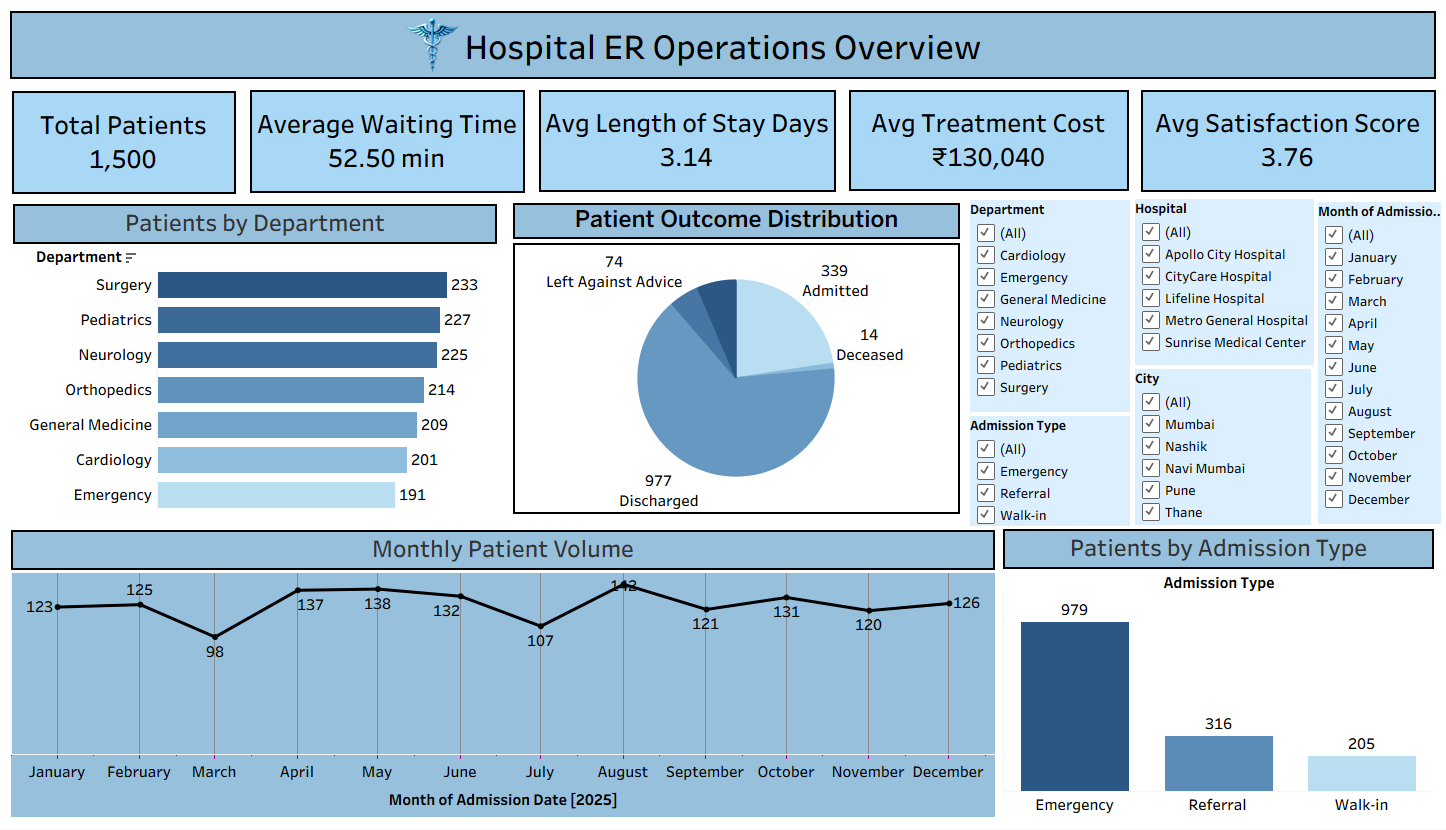

This screenshot's page, from the dashboard's own definition file:
{"tool":"tableau","page":{"name":"Hospital ER Operation Overview","canvas":[1450,830],"ordinal":1},"visuals":[{"type":"title","box":[8,8,1434,76]},{"type":"image","param":"C:/Users/SONALI/Downloads/pp.webp","box":[400,11,76,68]},{"type":"worksheet","title":"avg waiting time ","mark":"Automatic","box":[251,40,276,154]},{"type":"worksheet","title":"avg treatment cost","mark":"Automatic","box":[850,40,281,152]},{"type":"worksheet","title":"kpi total patients","mark":"Automatic","box":[13,41,225,155]},{"type":"worksheet","title":"avg len of stay days","mark":"Automatic","box":[540,75,298,118]},{"type":"worksheet","title":"avg satisfactn score","mark":"Automatic","box":[1142,75,296,118]},{"type":"filter","title":"patient by dept","param":"[federated.129wrcv0q0yms616yjgnn19gktfg].[none:Hospital:nk]","box":[1137,200,179,166]},{"type":"filter","title":"patient by dept","param":"[federated.129wrcv0q0yms616yjgnn19gktfg].[none:Department:nk]","box":[972,201,160,212]},{"type":"filter","title":"patient by dept","param":"[federated.129wrcv0q0yms616yjgnn19gktfg].[mn:Admission_Date:ok]","box":[1320,203,123,322]},{"type":"worksheet","title":"Patient Outcome Distribution","mark":"Pie","box":[514,204,448,311]},{"type":"worksheet","title":"patient by dept","mark":"Automatic","rows":["Department"],"cols":["Patient_ID"],"box":[15,205,484,308]},{"type":"filter","title":"patient by dept","param":"[federated.129wrcv0q0yms616yjgnn19gktfg].[none:City:nk]","box":[1137,370,176,156]},{"type":"filter","title":"patient by dept","param":"[federated.129wrcv0q0yms616yjgnn19gktfg].[none:Admission_Type:nk]","box":[972,417,160,110]},{"type":"worksheet","title":"patients by ad type","mark":"Automatic","rows":["Patient_ID"],"cols":["Admission_Type"],"box":[1005,530,431,287]},{"type":"worksheet","title":"Monthly Patient Volume","mark":"Line","rows":["Patient_ID"],"cols":["Admission_Date"],"box":[13,531,984,287]}]}

Visuals, with their boxes in screenshot pixels (x1, y1, x2, y2), scaled from the page's 1450x830 canvas onto the 1446x830 screenshot:
title: <bbox>8, 8, 1438, 84</bbox>
image: <bbox>399, 11, 475, 79</bbox>
"avg waiting time " worksheet: <bbox>250, 40, 526, 194</bbox>
"avg treatment cost" worksheet: <bbox>848, 40, 1128, 192</bbox>
"kpi total patients" worksheet: <bbox>13, 41, 237, 196</bbox>
"avg len of stay days" worksheet: <bbox>539, 75, 836, 193</bbox>
"avg satisfactn score" worksheet: <bbox>1139, 75, 1434, 193</bbox>
"patient by dept" filter: <bbox>1134, 200, 1312, 366</bbox>
"patient by dept" filter: <bbox>969, 201, 1129, 413</bbox>
"patient by dept" filter: <bbox>1316, 203, 1439, 525</bbox>
"Patient Outcome Distribution" worksheet (Pie marks): <bbox>513, 204, 959, 515</bbox>
"patient by dept" worksheet: <bbox>15, 205, 498, 513</bbox>
"patient by dept" filter: <bbox>1134, 370, 1309, 526</bbox>
"patient by dept" filter: <bbox>969, 417, 1129, 527</bbox>
"patients by ad type" worksheet: <bbox>1002, 530, 1432, 817</bbox>
"Monthly Patient Volume" worksheet (Line marks): <bbox>13, 531, 994, 818</bbox>
